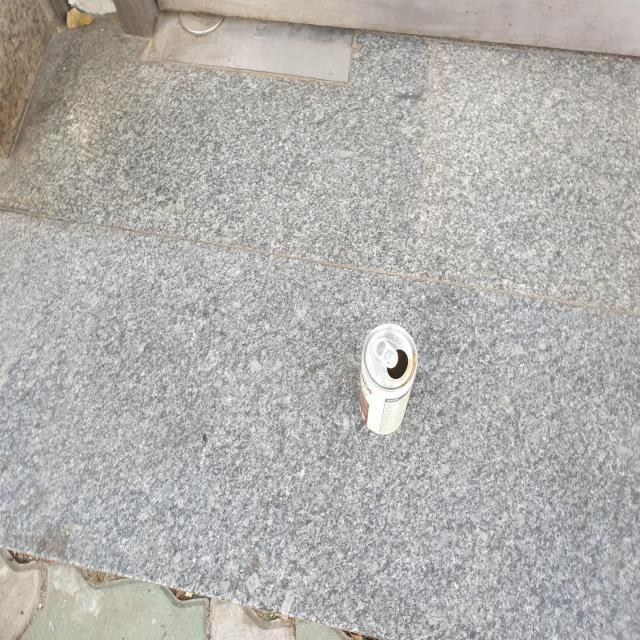can: (359, 324, 418, 435)
